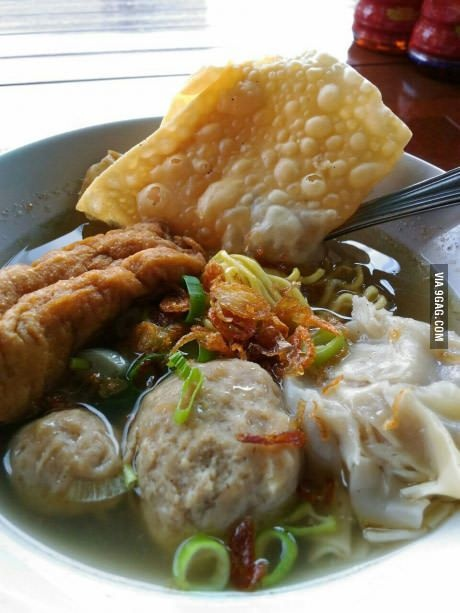bakso_malang: (1, 52, 459, 590)
